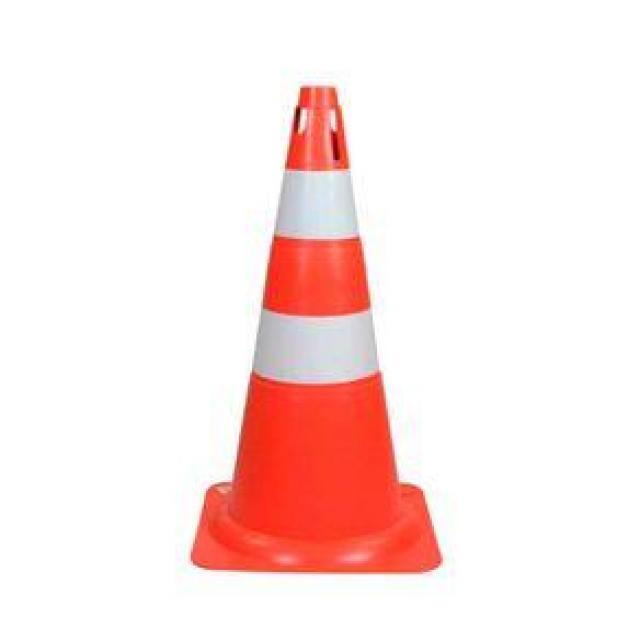cone: (200, 90, 433, 569)
